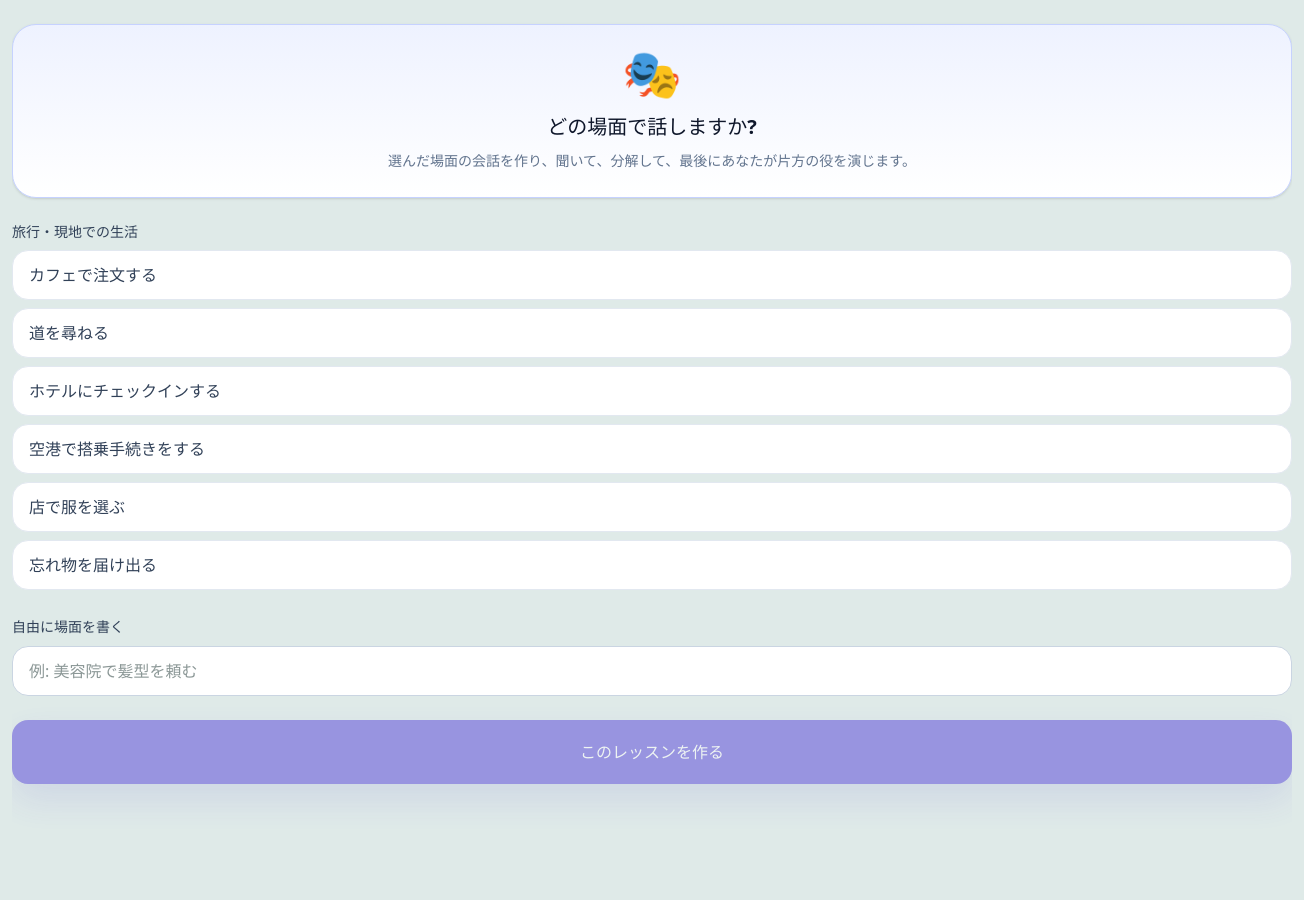
Test: ScenePicker › 自由入力すると作成ボタンを有効にする
Type "駅で友人と待ち合わせる" into the field labelled "自由に場面を書く" at {"x": 652, "y": 671}, box [12,646,1292,696]
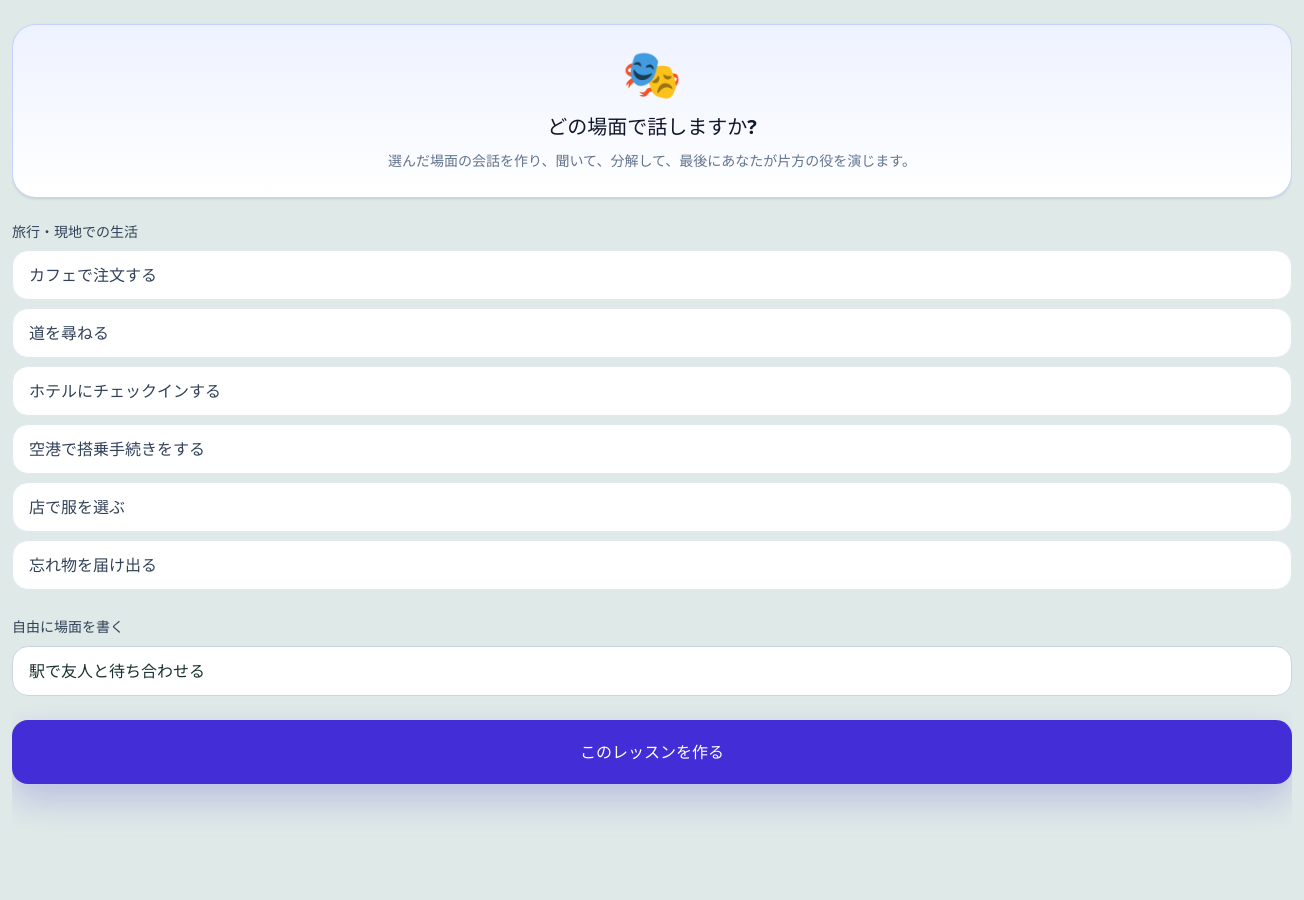
Now the button "このレッスンを作る" is enabled, box [12,720,1292,784]
